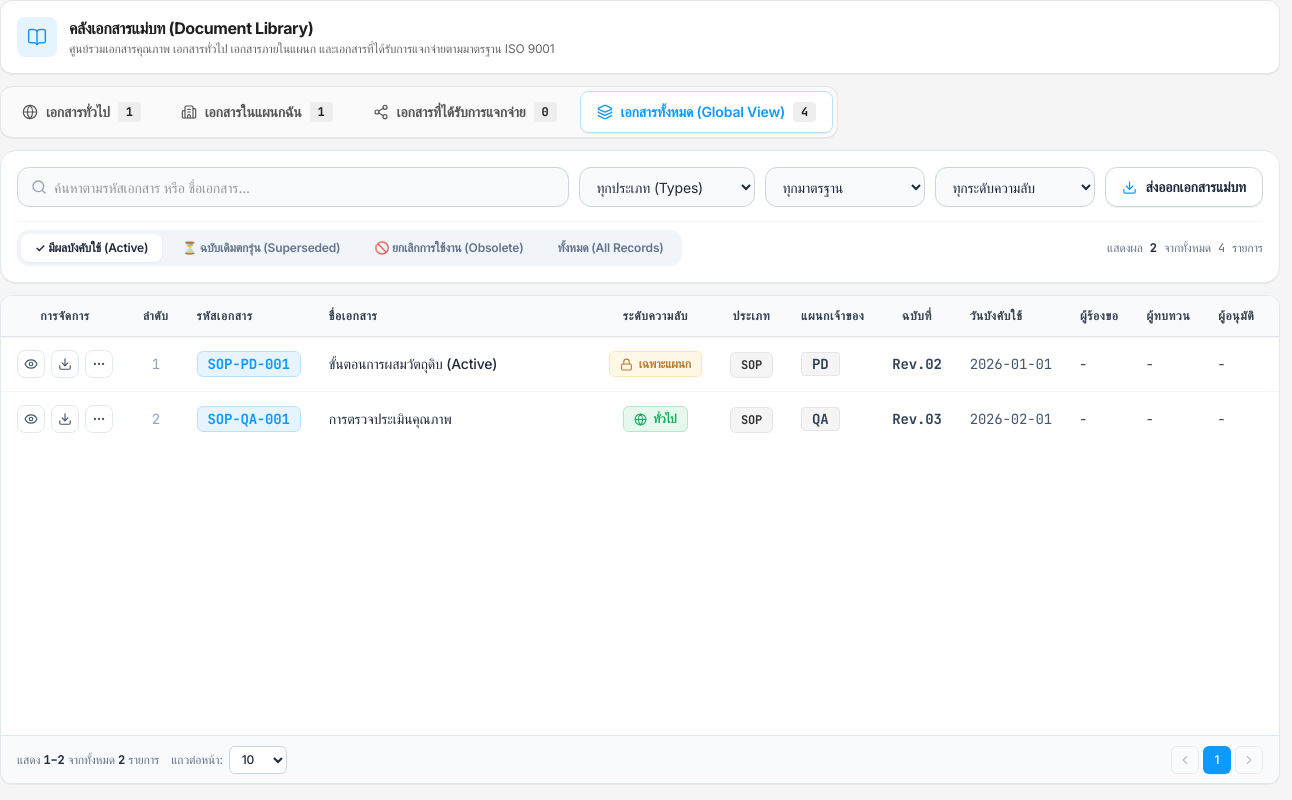
Scenario: Library Universal Audit Scope, Status Normalization & Obsolete Form Sync Tests › 2. DCC Global View & Multi-Status Filtering › allows DCC to view all statuses across all departments under "ทั้งหมด (All Records)"
Note: Switch to ALL records tab
What coordinates should you click on to do the following:
click the button "ทั้งหมด (All Records)"
I would click on:
 (611, 248)
Its box is [544,234,678,262].
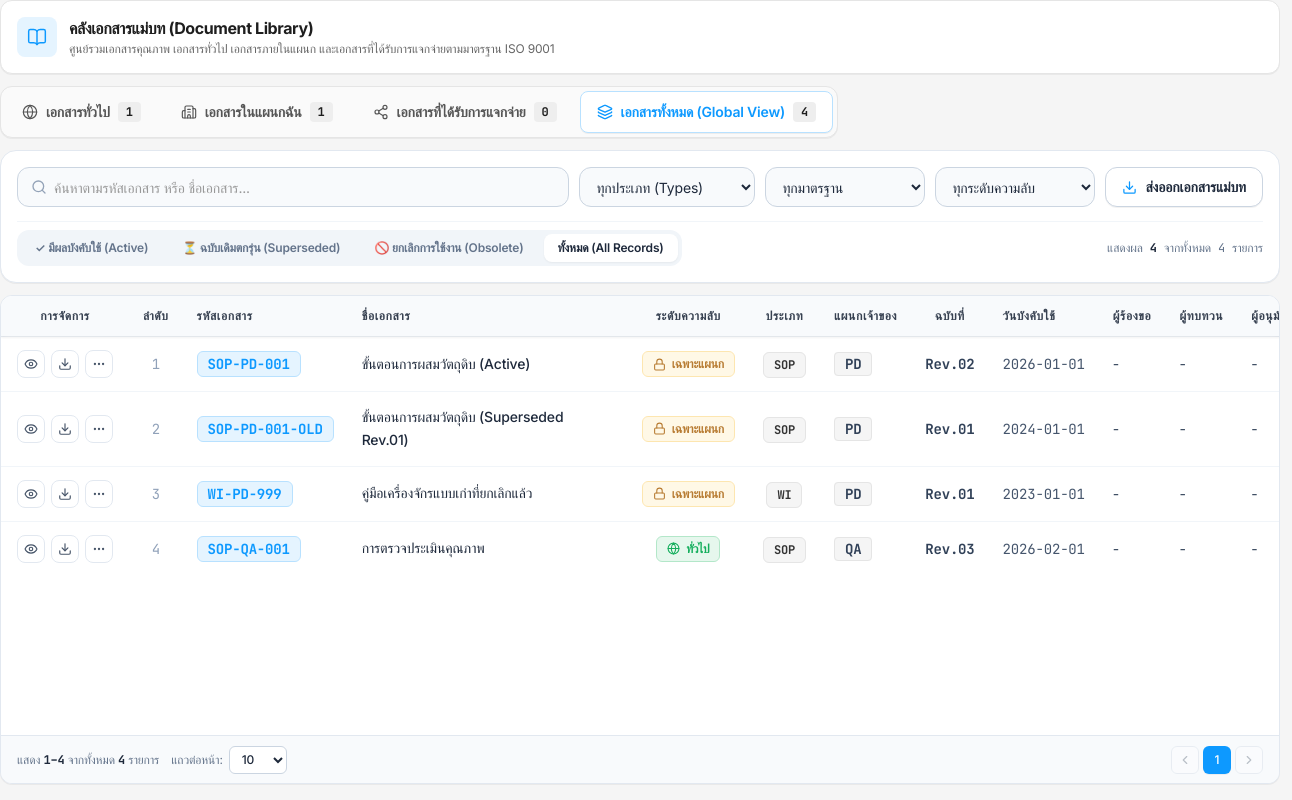
Expected: the text "SOP-PD-001" is shown, [196,351,301,377]
Result: the text "SOP-PD-001-OLD" is shown at [196,416,334,442]
Result: the text "WI-PD-999" is shown at [196,480,292,506]
